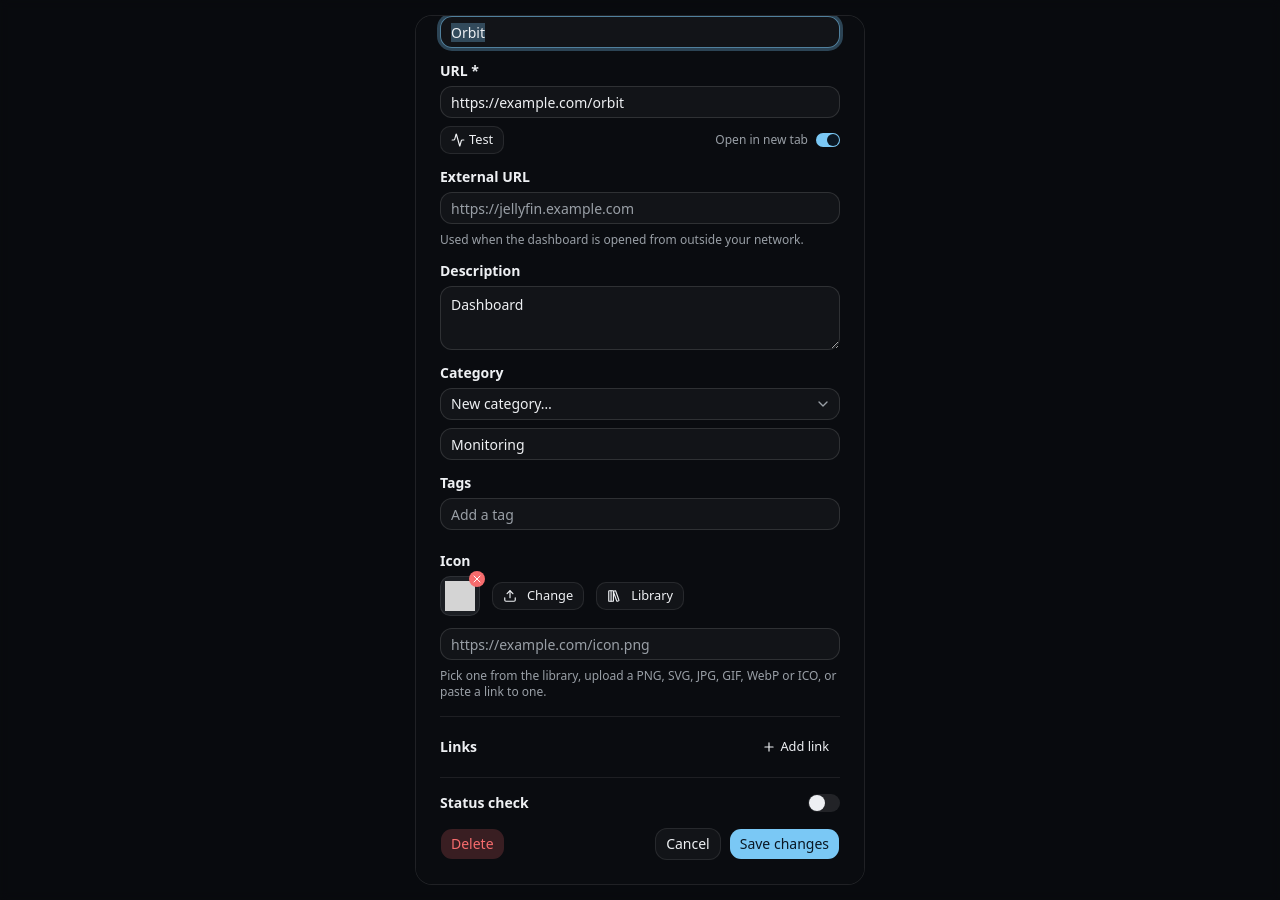
ServiceDialog › stays open and shows the error when deleting fails
(page scrolled)
Click the button "Delete": (472, 844) top-left (440, 828), bottom-right (505, 860)
(page scrolled)
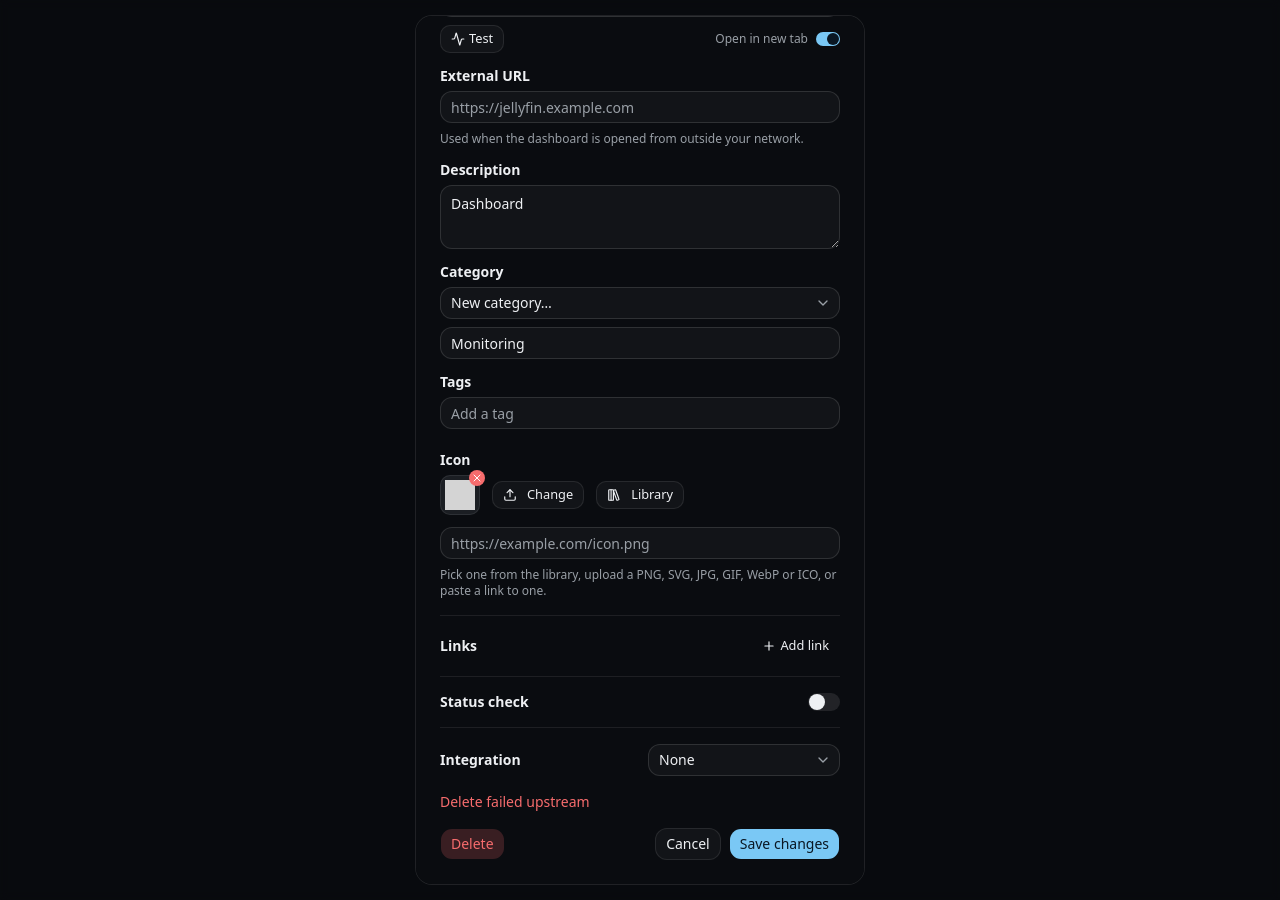
Result: the text "Delete failed upstream" is shown at top-left (440, 792), bottom-right (590, 811)
